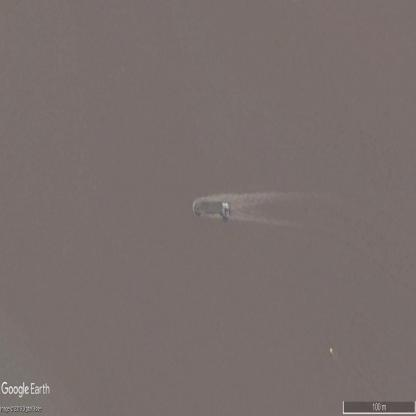ship: (192, 198, 232, 220)
